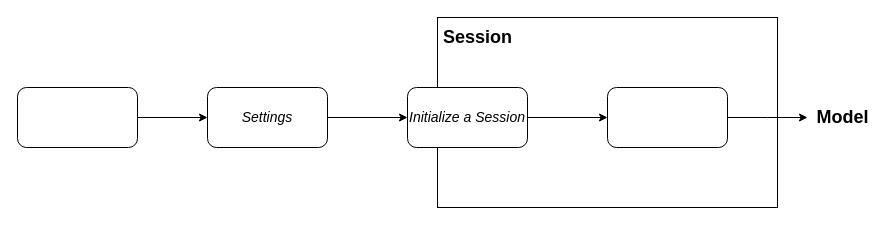
Some shapes in this 895 by 225 pixel diagram are drawn without their labels. The centre of each missing label's shape, as x and y in pixels:
create the computation graph: [77,117]
Train the model: [667,117]
